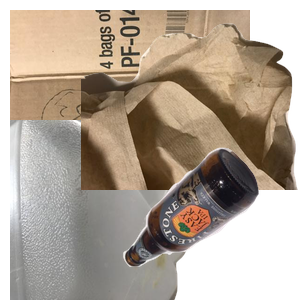cardboard: (10, 10, 250, 190)
glass: (120, 145, 300, 300)
plastic: (10, 120, 190, 300)
trash: (81, 21, 300, 201)
